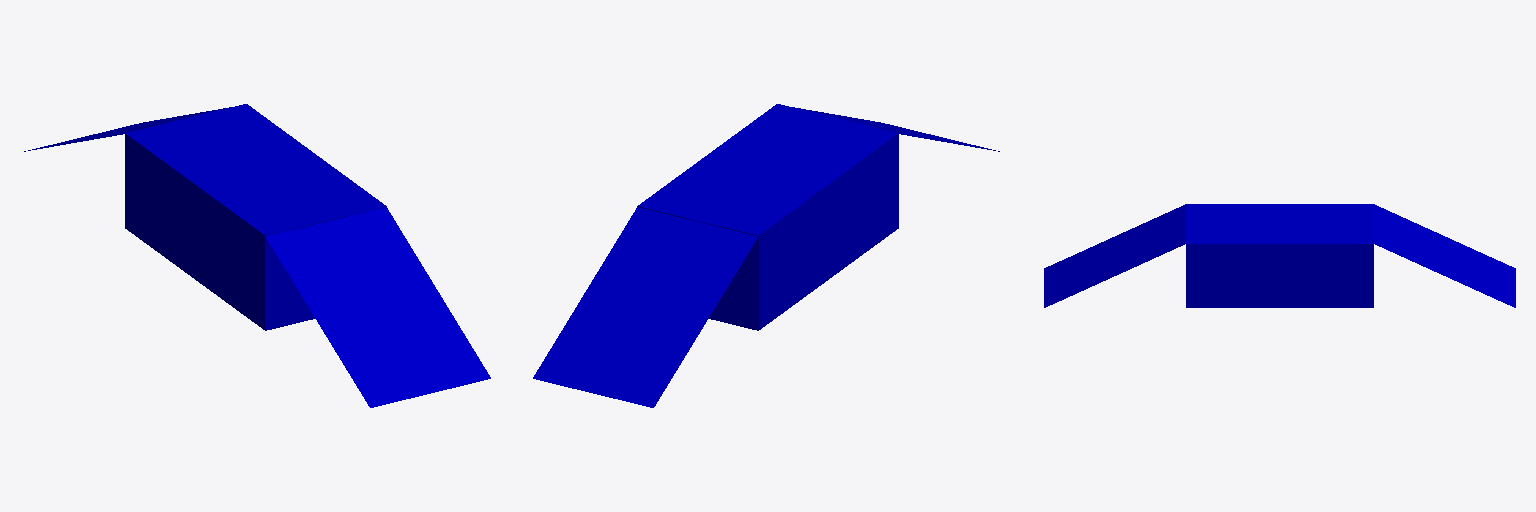
URDF robot description (ramp):
<?xml version="1.0"?>

<robot name="ramp">
    
    <material name="blue">
        <color rgba="0 0 0.8 1" />
    </material>

    <link name="base_link">

        <inertial>
            <origin xyz="0 0 0.1" />
            <mass value="10000.0" />
            <inertia ixx="1.0" ixy="0.0" ixz="0.0"
            iyy="1.0" iyz="0.0" izz="1.0" />

        </inertial>
        <visual>        
            <origin xyz="0 0 0.1" /> <!-- No cambiamos los origin porque añaden desfase, no es lo mismo que startPosition -->
            <geometry>
                <box size="2 4 1.5" />
            </geometry>
            <material name="blue"/>
        </visual>

        <collision>
            <origin xyz="0 0 0.1" />
            <geometry>
             <box size="2 4 1.5" />
            </geometry>
        </collision>

    </link>

    <link name="ramp0_link">

        <inertial>
            <origin rpy="0 0 0" xyz="0 0 0.1" /> <!-- theta = arcsin(1.5/sqr(11.25)) -->
            <mass value="1.0" />
            <inertia ixx="1.0" ixy="0.0" ixz="0.0"
            iyy="0.0" iyz="0.0" izz="1.0" />

        </inertial>
        <visual>
            <origin rpy="0 0 0" xyz="0 0 0.1" />
            <geometry>
                <box size="2 3.35 0.001" />
            </geometry>
            <material name="blue"/>
        </visual>

        <collision>
            <origin rpy="0 0 0" xyz="0 0 0.1" />
            <geometry>
             <box size="2 3.35 0.001" />
            </geometry>
        </collision>

    </link>

    <joint name="base_to_ramp0" type="fixed">
        <parent link="base_link" />
        <child link="ramp0_link" />
        <origin rpy="0.4636 0 0" xyz="0 -3.45 0" />

        <limit lower="-0.14" upper="0.14" effort="10.0" velocity="0.5" />
    </joint>

    <link name="rampf_link">

        <inertial>
            <origin rpy="0 0 0" xyz="0 0 0.1" /> <!-- theta = arcsin(1.5/sqr(11.25)) -->
            <mass value="1.0" />
            <inertia ixx="1.0" ixy="0.0" ixz="0.0"
            iyy="0.0" iyz="0.0" izz="1.0" />

        </inertial>
        <visual>
            <origin rpy="0 0 0" xyz="0 0 0.1" />
            <geometry>
                <box size="2 3.35 0.001" />
            </geometry>
            <material name="blue"/>
        </visual>

        <collision>
            <origin rpy="0 0 0" xyz="0 0 0.1" />
            <geometry>
             <box size="2 3.35 0.001" />
            </geometry>
        </collision>

    </link>

    <joint name="base_to_rampf" type="fixed">
        <parent link="base_link" />
        <child link="rampf_link" />
        <origin rpy="-0.4636 0 0" xyz="0 3.45 0" />

        <limit lower="-0.14" upper="0.14" effort="10.0" velocity="0.5" />
    </joint>

</robot>

--- Render facts (derived) ---
The picture shows the robot from 3 angles, left to right: view 1: azimuth 30°, elevation 25°; view 2: azimuth 150°, elevation 25°; view 3: azimuth 270°, elevation 25°; orthographic projection.
Model ramp with 3 links and 2 joints (2 fixed), rooted at base_link, posed all joints at 0.
Links seen in each view (by area): view 1: base_link, ramp0_link, rampf_link; view 2: base_link, rampf_link, ramp0_link; view 3: base_link, ramp0_link, rampf_link.
Link boxes in pixels (<box>): base_link: <box>125,104,386,330</box>; ramp0_link: <box>266,207,490,407</box>; rampf_link: <box>24,107,230,151</box>; base_link: <box>637,104,898,330</box>; rampf_link: <box>533,207,757,407</box>; ramp0_link: <box>793,107,999,151</box>; base_link: <box>1186,204,1373,307</box>; ramp0_link: <box>1044,204,1185,307</box>; rampf_link: <box>1374,204,1515,307</box>.
Size in the robot's own frame: 2 by 9.99 by 1.51 metres.
Geometry: primitives only (box / cylinder / sphere), no mesh files.
